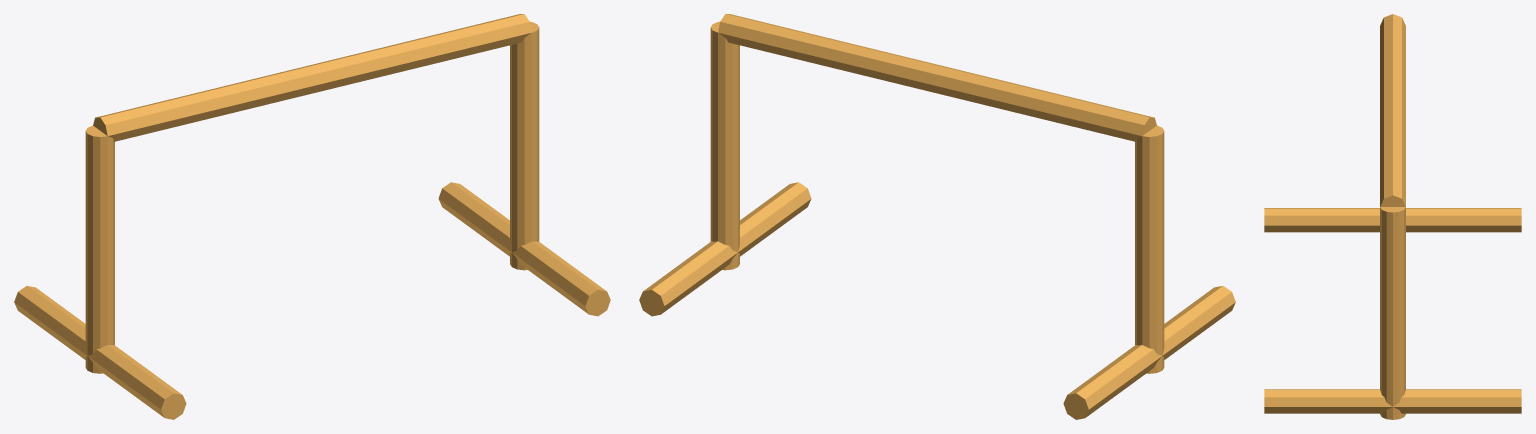
Rendered from training-hurdle-0562f899.glb.
3 views of the same model, side by side, from view 1: azimuth 30°, elevation 25°; view 2: azimuth 150°, elevation 25°; view 3: azimuth 270°, elevation 25° (orthographic). The views are drawn at different scales.
Visible parts, largest first — view 1: training-hurdle; view 2: training-hurdle; view 3: training-hurdle.
Part boxes in pixels (left/top/right/bottom): training-hurdle: left=14, top=14, right=610, bottom=419; training-hurdle: left=639, top=14, right=1235, bottom=419; training-hurdle: left=1264, top=14, right=1521, bottom=419.
Bounding box in the file's own units: 0.636 × 0.338 × 0.36.
